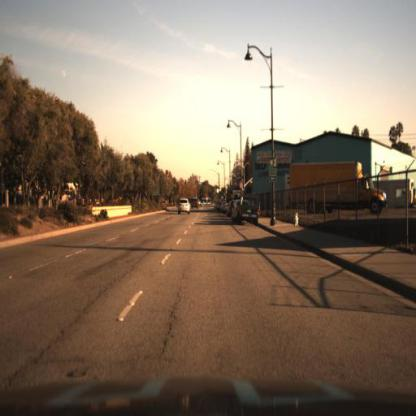car: (238, 193, 260, 227), (177, 195, 191, 219), (231, 198, 241, 225), (189, 196, 201, 212)
truck: (286, 156, 391, 220), (289, 159, 390, 219)
